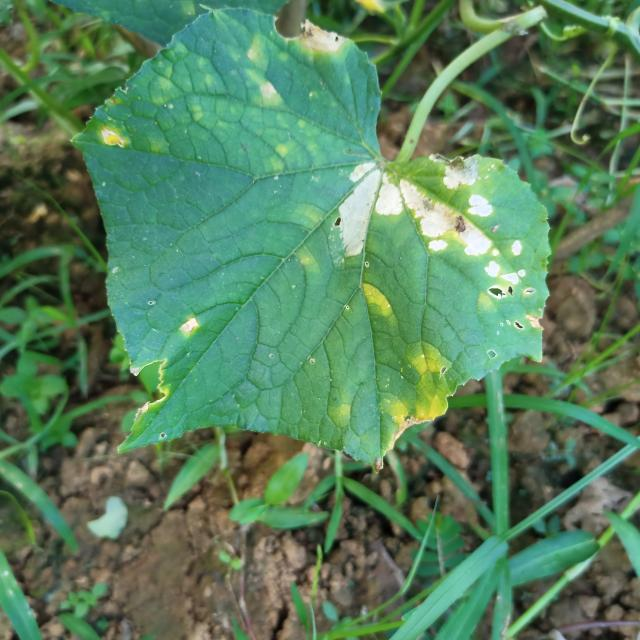disease_cucumber: (334, 151, 548, 298), (207, 34, 290, 131), (384, 338, 448, 427), (358, 278, 402, 325)
